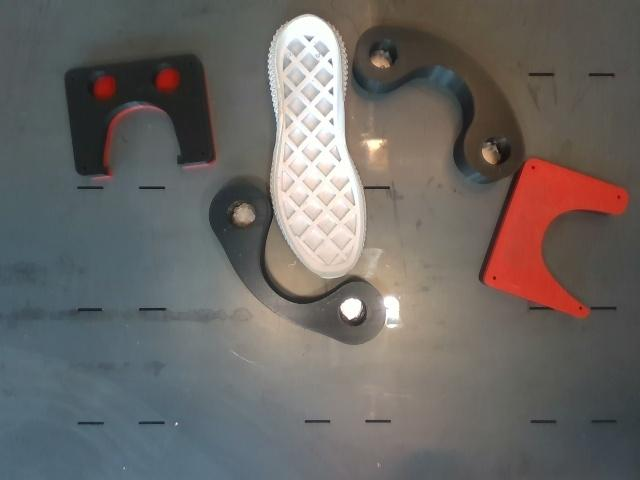shoes: (275, 17, 364, 277)
